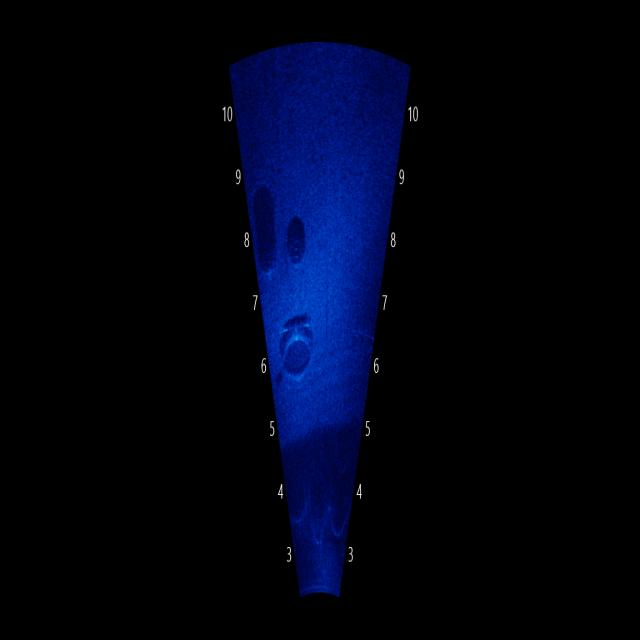circle: (274, 314, 319, 390), (254, 222, 288, 284), (284, 218, 311, 276)
